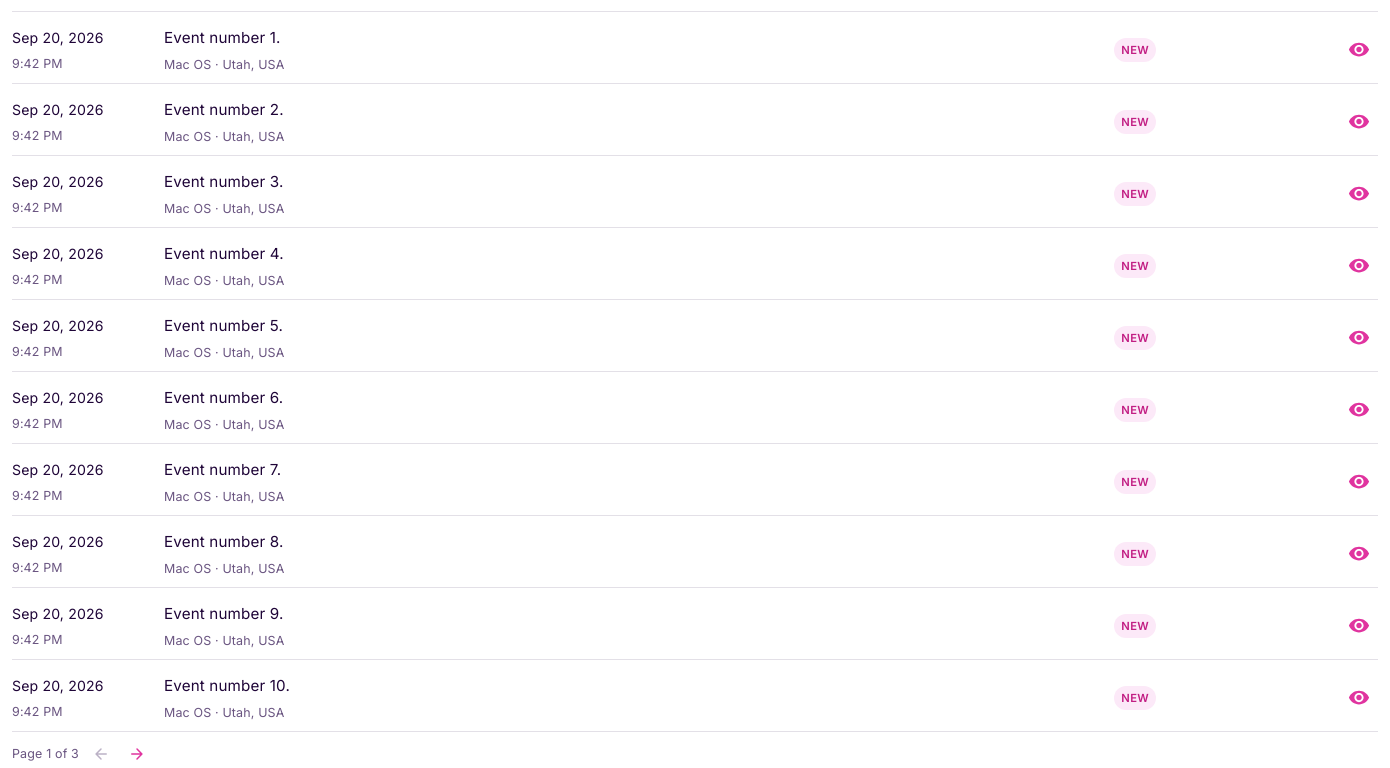
Test: the pages it is read in › says which page of how many is being read
(page scrolled)
Check: the text "Page 1 of 3" is shown, box [12,742,79,766]
Step 1. Click the button named "Older activity" → [137, 754], box [123,740,151,767]
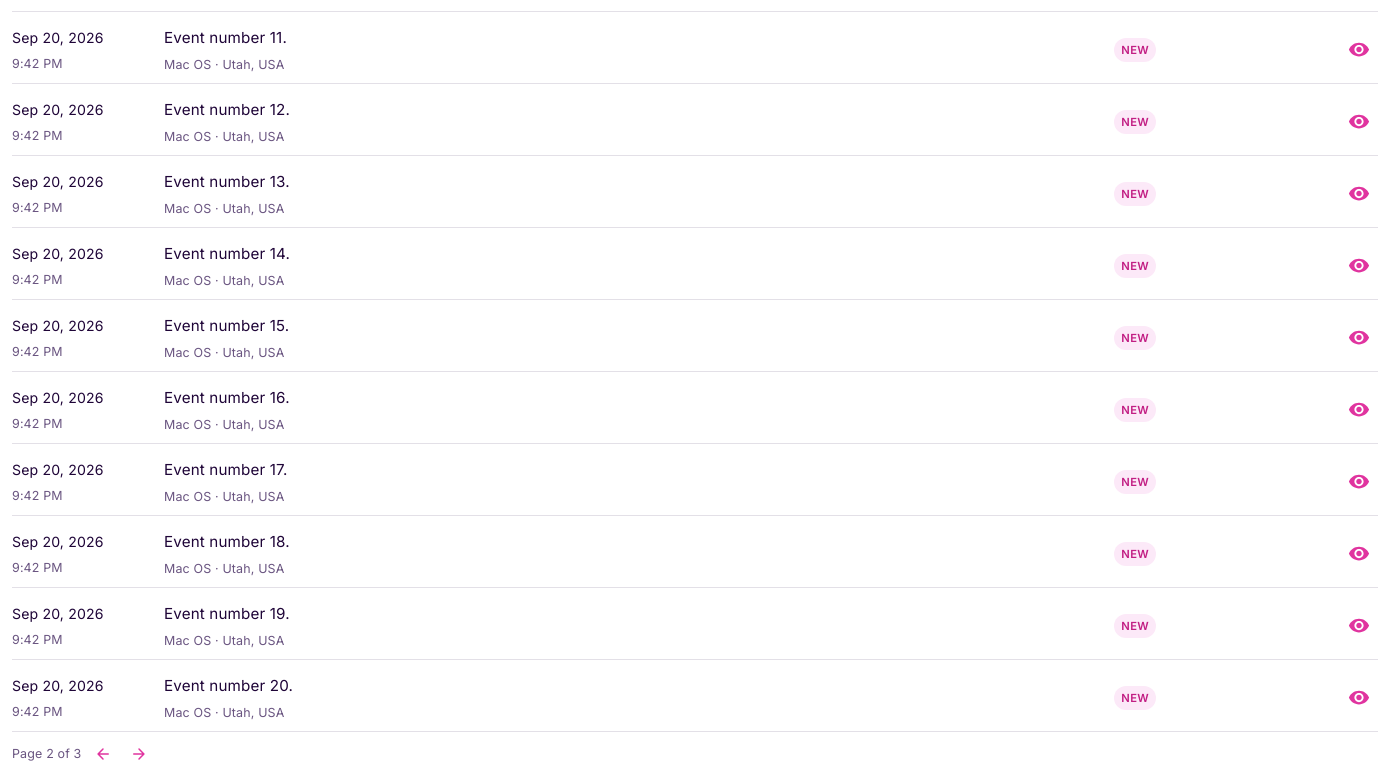
Check: the text "Page 2 of 3" is shown, box [12,742,82,766]
